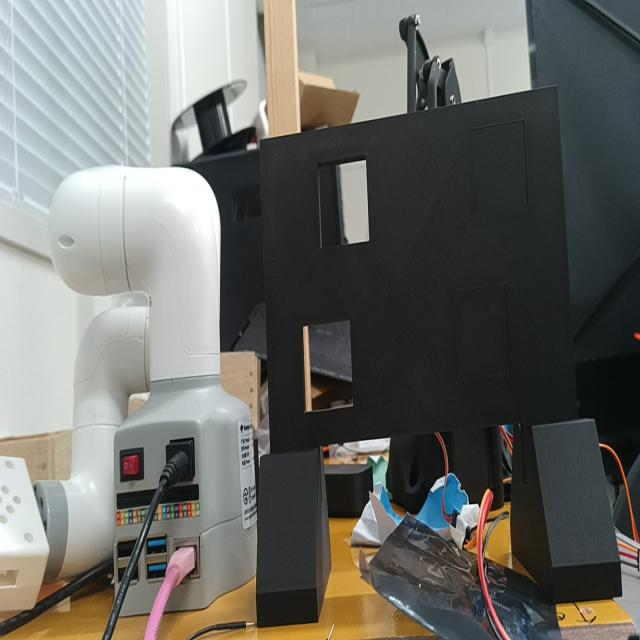Obstacle: (317, 155, 371, 250), (303, 321, 352, 409)
Wall: (260, 85, 576, 452)
